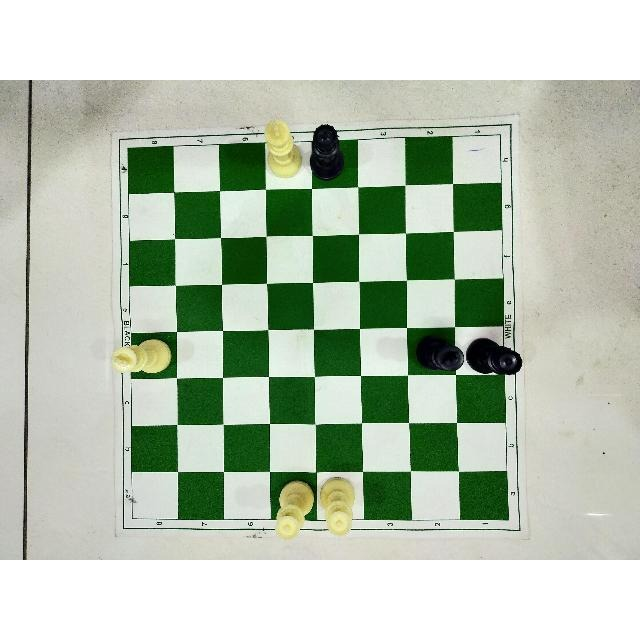black-king: (414, 330, 465, 382)
black-queen: (308, 124, 350, 184), (467, 336, 521, 380)
white-king: (262, 117, 304, 180), (112, 338, 174, 378)
white-queen: (268, 479, 316, 538), (318, 474, 360, 536)
